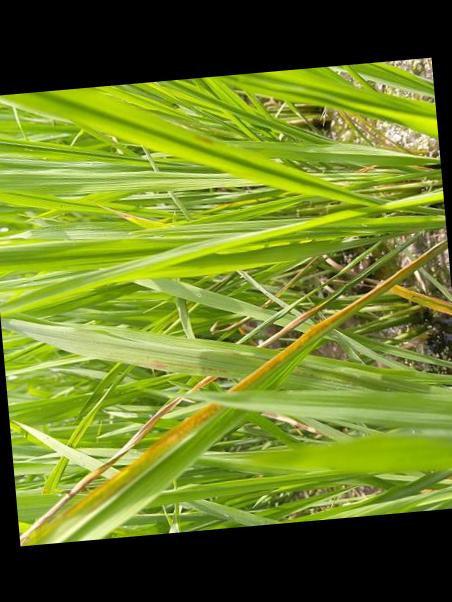Leaf Streak: (232, 240, 448, 390), (23, 375, 218, 535), (35, 400, 224, 544), (260, 296, 333, 345), (276, 255, 317, 296), (211, 314, 252, 331)
